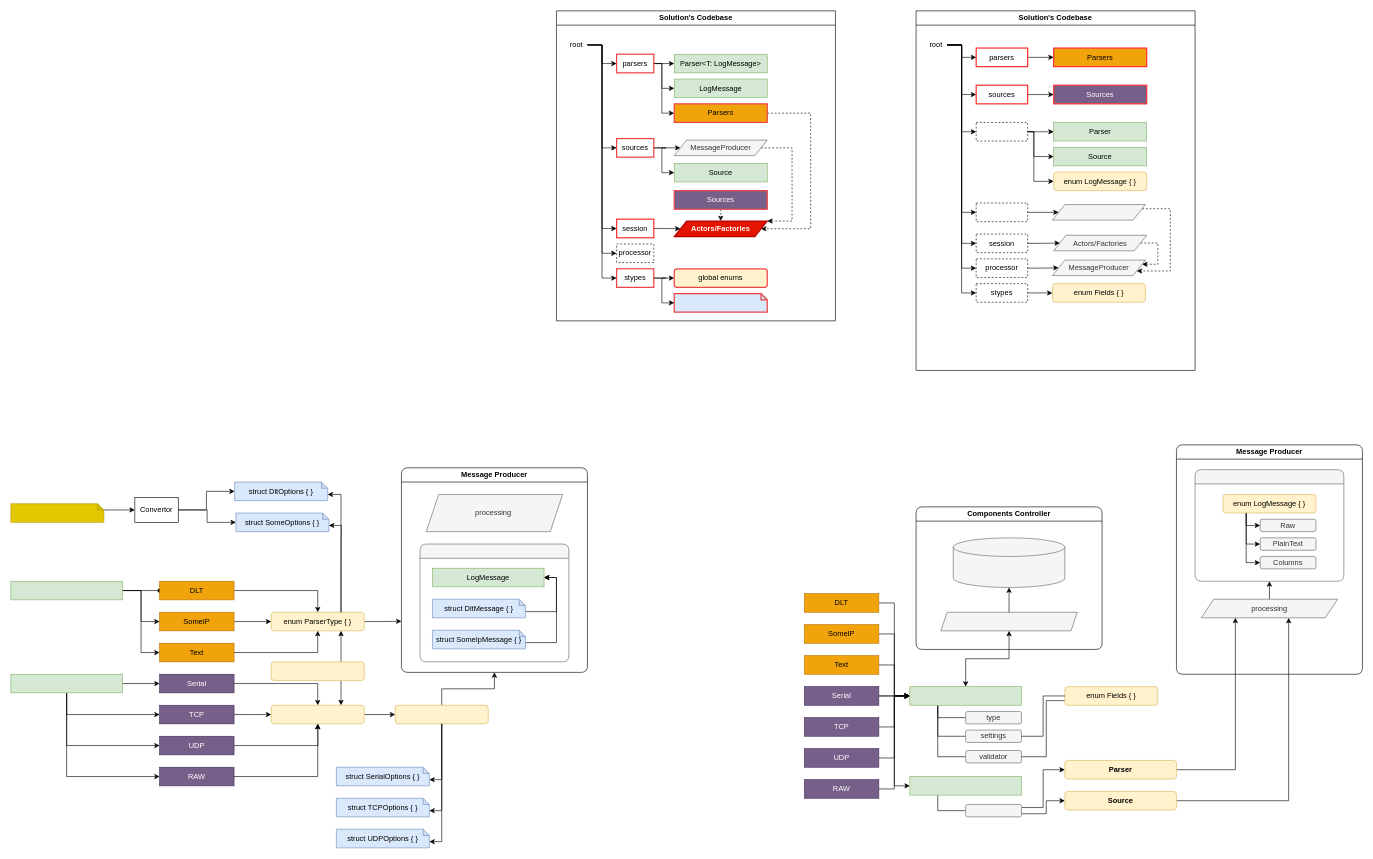
Image size: 1373x859. Some labels were removed from this diagram. The shapes that lost their labels are listed below. From the top down, each one's box as (x1, y1, x2, y2) in pixels, then its label:
(976, 122, 1028, 141): definitions
(976, 202, 1028, 222): components
(1052, 204, 1145, 220): Controller/Storage
(673, 293, 768, 312): settings/options
(10, 503, 104, 522): enum Filed { ... }
(1194, 469, 1344, 581): Parser Returns: Vec<LogMessage>
(953, 537, 1065, 587): Box<dyn Descriptor>
(10, 581, 122, 600): Parser<'lt, T: LogMessage>
(419, 543, 569, 662): Parser Returns: impl Iterator<....>
(940, 612, 1077, 631): Registration
(10, 674, 122, 693): Source<R>
(271, 661, 364, 680): struct Observe { }
(271, 705, 364, 724): enum ObserveOrigin { }
(395, 705, 488, 724): enum Transport { }
(909, 686, 1021, 705): Metadata Descriptor
(909, 776, 1021, 795): Component Descriptor
(965, 804, 1021, 817): factory
